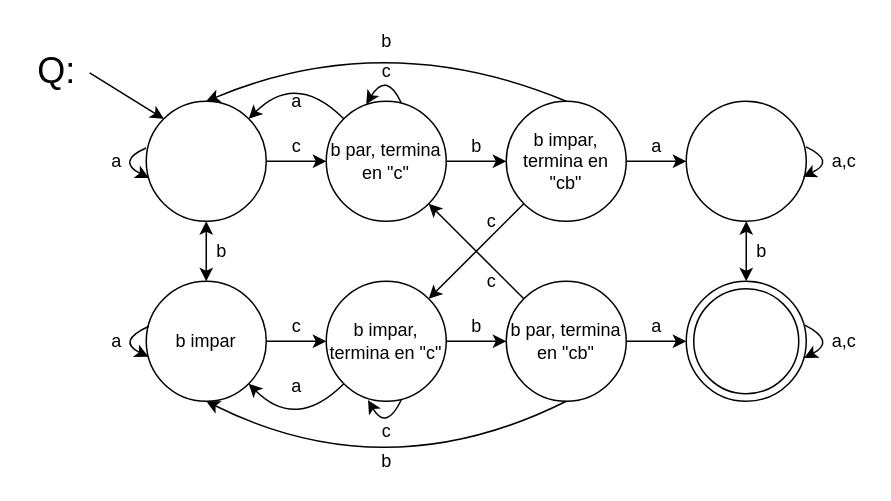
Some shapes in this 891 by 501 pixel diagram are drawn without their labels. Each missing label, with the centre of its shape:
b impar, tiene secuencia "cba": pixel 745 160
b par: pixel 205 160
b par, tiene secuencia "cba": pixel 745 340
